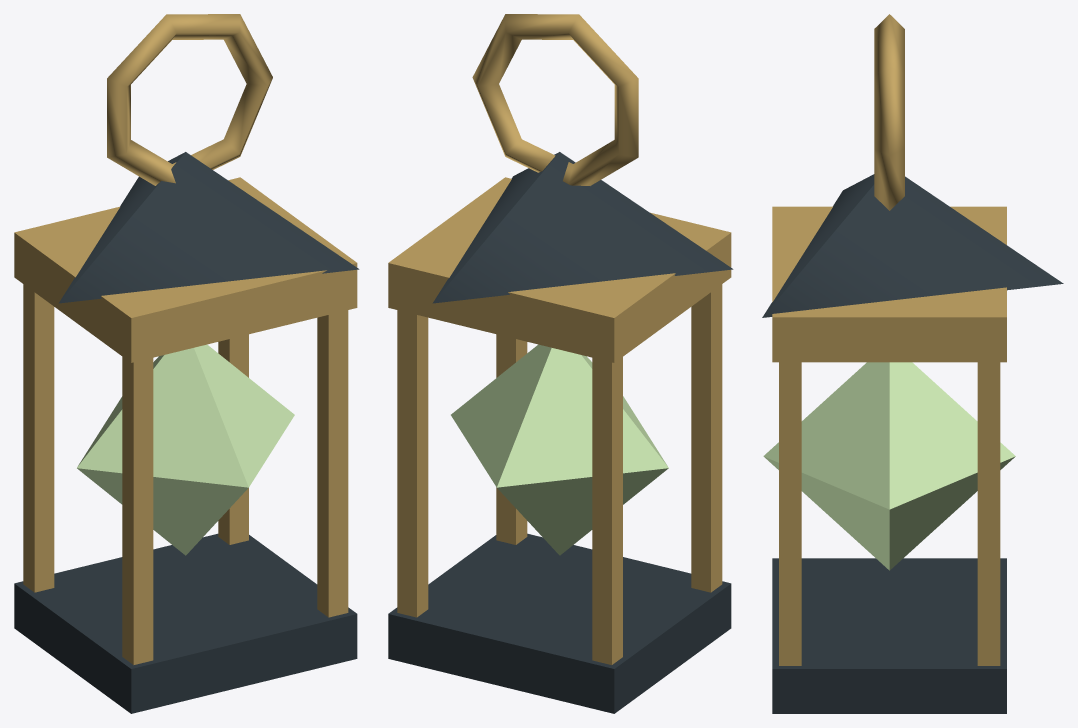
Rendered from fixed-lantern-lod1.glb.
3 views of the same model, side by side, from view 1: azimuth 30°, elevation 25°; view 2: azimuth 150°, elevation 25°; view 3: azimuth 270°, elevation 25° (orthographic).
Visible parts, largest first — view 1: piece_whole; view 2: piece_whole; view 3: piece_whole.
Boxes of the visible parts, left/top/right/bottom form: piece_whole: left=14, top=14, right=359, bottom=713; piece_whole: left=388, top=14, right=733, bottom=713; piece_whole: left=762, top=14, right=1063, bottom=713.
Size of the model in its own units: 0.3382 by 0.7767 by 0.3346.
